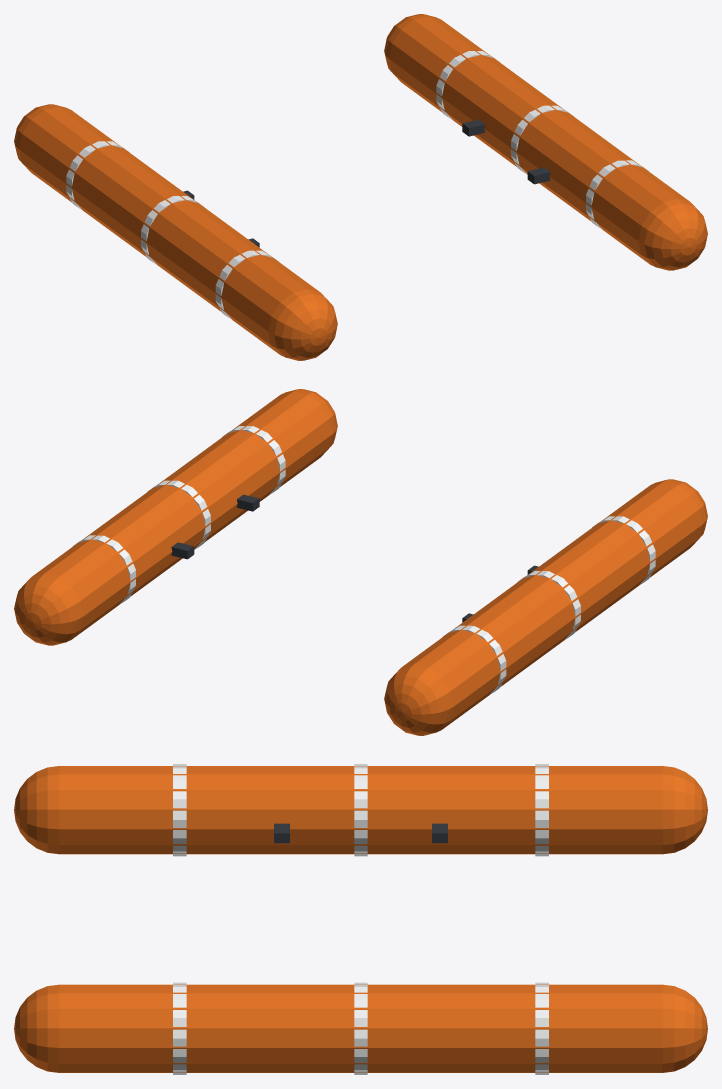
Rendered from hana_roadster.glb.
3 views of the same model, one above another, from view 1: azimuth 30°, elevation 25°; view 2: azimuth 150°, elevation 25°; view 3: azimuth 270°, elevation 25° (orthographic). The views are drawn at different scales.
Parts seen in each view (by area): view 1: model; view 2: model; view 3: model.
Boxes of the visible parts, <box> form: model: <box>14,14,707,360</box>; model: <box>14,389,707,735</box>; model: <box>14,764,707,1074</box>.
Size of the model in its own units: 2.69 by 0.4079 by 3.07.
Materials: 1 (1 with a texture image).
